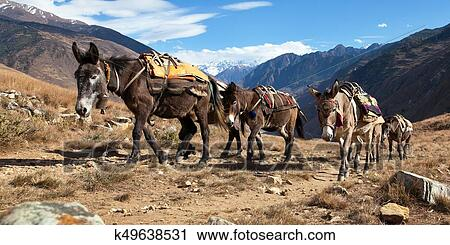equine: (61, 37, 225, 183), (304, 75, 385, 184), (218, 79, 305, 173), (378, 114, 432, 176)
